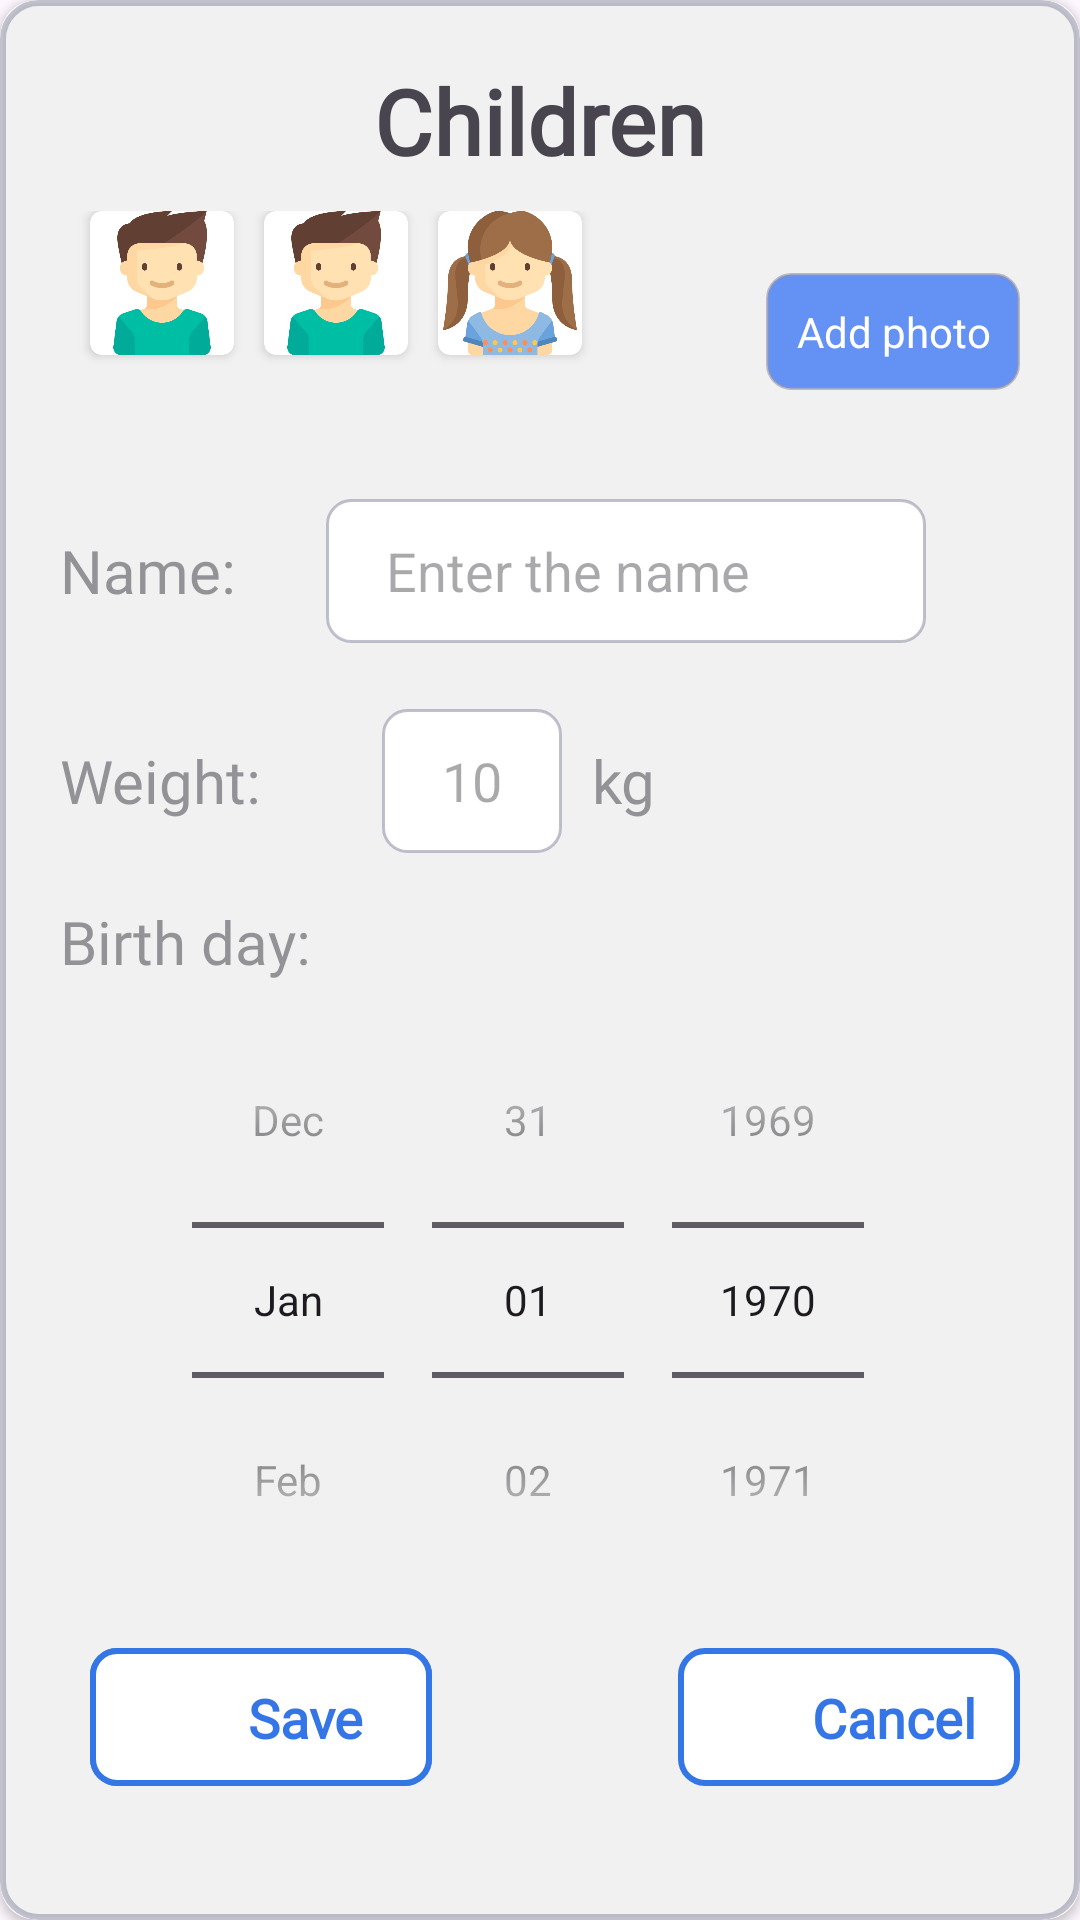

Icon click points for this 1080 × 1920 phone screenshot, format (x,y):
boy: (162,283), (336,283)
girl: (510,283)
